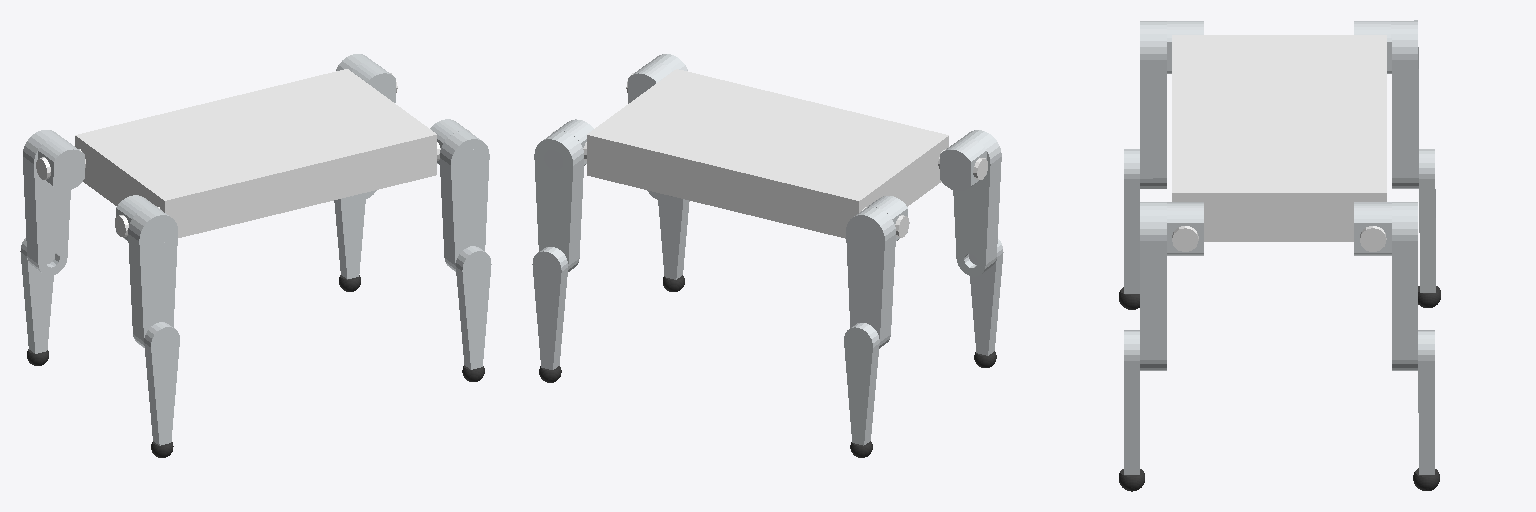
--- Facts derived from the render (not from the file) ---
Views: 3 orthographic renders of the robot side by side, from view 1: azimuth 30°, elevation 25°; view 2: azimuth 150°, elevation 25°; view 3: azimuth 270°, elevation 25°.
Model simpledog with 19 links and 18 joints (12 revolute, 6 fixed), rooted at base_link, posed all joints at 0.
Visible links, largest first — view 1: base_link, rear_right_2_Link, front_right_2_Link, rear_left_2_Link, rear_right_3_Link, front_right_3_Link, rear_left_3_Link, front_left_3_Link, rear_left_1_Link, front_left_1_Link, rear_right_1_Link, front_right_1_Link; view 2: base_link, rear_left_2_Link, front_left_2_Link, rear_right_2_Link, front_left_3_Link, rear_left_3_Link, rear_right_3_Link, front_right_3_Link, rear_right_1_Link, front_right_1_Link, rear_left_1_Link, front_left_1_Link; view 3: base_link, front_right_2_Link, rear_right_2_Link, rear_left_2_Link, front_left_2_Link, front_left_3_Link, rear_left_3_Link, front_right_3_Link, rear_right_3_Link, front_left_1_Link, front_right_1_Link, rear_left_1_Link (+1 smaller).
Link boxes in pixels (<box>): base_link: <box>36,69,473,237</box>; rear_right_2_Link: <box>128,207,177,347</box>; front_right_2_Link: <box>440,131,489,271</box>; rear_left_2_Link: <box>23,130,70,275</box>; rear_right_3_Link: <box>144,322,179,445</box>; front_right_3_Link: <box>456,246,491,369</box>; rear_left_3_Link: <box>20,238,54,353</box>; front_left_3_Link: <box>334,196,365,279</box>; rear_left_1_Link: <box>38,138,84,190</box>; front_left_1_Link: <box>351,62,395,102</box>; rear_right_1_Link: <box>116,195,167,245</box>; front_right_1_Link: <box>430,119,479,169</box>; base_link: <box>551,69,987,238</box>; rear_left_2_Link: <box>846,207,895,348</box>; front_left_2_Link: <box>534,131,583,271</box>; rear_right_2_Link: <box>953,130,1001,276</box>; front_left_3_Link: <box>532,247,567,369</box>; rear_left_3_Link: <box>844,323,879,445</box>; rear_right_3_Link: <box>969,239,1003,355</box>; front_right_3_Link: <box>658,196,689,279</box>; rear_right_1_Link: <box>940,138,986,190</box>; front_right_1_Link: <box>628,62,672,103</box>; rear_left_1_Link: <box>856,196,907,245</box>; front_left_1_Link: <box>544,119,593,170</box>; base_link: <box>1172,35,1386,251</box>; front_right_2_Link: <box>1140,202,1166,370</box>; rear_right_2_Link: <box>1140,21,1166,188</box>; rear_left_2_Link: <box>1391,20,1418,188</box>; front_left_2_Link: <box>1392,202,1417,370</box>; front_left_3_Link: <box>1418,330,1434,474</box>; rear_left_3_Link: <box>1419,149,1435,292</box>; front_right_3_Link: <box>1124,330,1139,474</box>; rear_right_3_Link: <box>1124,149,1139,293</box>; front_left_1_Link: <box>1354,202,1391,255</box>; front_right_1_Link: <box>1167,202,1203,255</box>; rear_left_1_Link: <box>1354,21,1418,73</box>.
Bounding box of the posed robot: 0.9001 × 0.6016 × 0.5876 m (x, y, z).
17 mesh visuals loaded from 18 distinct referenced files (17 binary STL); not drawn: 1 (reference not matched to a file when rendering).

robot.urdf — simpledog:
<?xml version="1.0" ?>
<!-- =================================================================================== -->
<!-- |    This document was autogenerated by xacro from simpledog.urdf.xacro           | -->
<!-- |    EDITING THIS FILE BY HAND IS NOT RECOMMENDED                                 | -->
<!-- =================================================================================== -->
<robot name="simpledog" xmlns:xacro="http://ros.org/wiki/xacro">
  <gazebo reference="base_link">
    <material>Gazebo/DarkGrey</material>
    <mu1 value="10.0"/>
    <mu2 value="10.0"/>
    <kp value="10000000.0"/>
    <kd value="1.0"/>
    <fdir1 value="1 0 0"/>
    <gravity value="ture"/>
  </gazebo>
  <!--load the gazebo rosz-control plug in-->
  <gazebo>
    <plugin filename="libgazebo_ros_control.so" name="gazebo_ros_control">
      <robotNamespace>/simpledog</robotNamespace>
    </plugin>
  </gazebo>
  <!-- <gazebo reference="imu_link">
    <sensor type="imu" name="imu">
      <always_on>true</always_on>
      <visualize>$(arg imu_visual)</visualize>
    </sensor>
    <material>Gazebo/Grey</material>
  </gazebo>

  <gazebo>
    <plugin name="imu_plugin" filename="libgazebo_ros_imu.so">
      <alwaysOn>true</alwaysOn>
      <bodyName>imu_link</bodyName>
      <frameName>imu_link</frameName>
      <topicName>imu</topicName>
      <serviceName>imu_service</serviceName>
      <gaussianNoise>0.0</gaussianNoise>
      <updateRate>200</updateRate>
      <imu>
        <noise>
          <type>gaussian</type>
          <rate>
            <mean>0.0</mean>
            <stddev>2e-4</stddev>
            <bias_mean>0.0000075</bias_mean>
            <bias_stddev>0.0000008</bias_stddev>
          </rate>
          <accel>
            <mean>0.0</mean>
            <stddev>1.7e-2</stddev>
            <bias_mean>0.1</bias_mean>
            <bias_stddev>0.001</bias_stddev>
          </accel>
        </noise>
      </imu>
    </plugin>
  </gazebo>

  <gazebo reference="base_scan">
    <material>Gazebo/FlatBlack</material>
    <sensor type="ray" name="lds_lfcd_sensor">
      <pose>0 0 0 0 0 0</pose>
      <visualize>$(arg laser_visual)</visualize>
      <update_rate>5</update_rate>
      <ray>
        <scan>
          <horizontal>
            <samples>360</samples>
            <resolution>1</resolution>
            <min_angle>0.0</min_angle>
            <max_angle>6.28319</max_angle>
          </horizontal>
        </scan>
        <range>
          <min>0.120</min>
          <max>3.5</max>
          <resolution>0.015</resolution>
        </range>
        <noise>
          <type>gaussian</type>
          <mean>0.0</mean>
          <stddev>0.01</stddev>
        </noise>
      </ray>
      <plugin name="gazebo_ros_lds_lfcd_controller" filename="libgazebo_ros_laser.so">
        <topicName>scan</topicName>
        <frameName>base_scan</frameName>
      </plugin>
    </sensor>
  </gazebo>

  <gazebo reference="camera_rgb_frame">
    <sensor type="depth" name="realsense_R200">
      <always_on>true</always_on>
      <visualize>$(arg camera_visual)</visualize>
      <camera>
          <horizontal_fov>1.3439</horizontal_fov>
          <image>
              <width>1920</width>
              <height>1080</height>
              <format>R8G8B8</format>
          </image>
          <depth_camera></depth_camera>
          <clip>
              <near>0.03</near>
              <far>100</far>
          </clip>
      </camera>
      <plugin name="camera_controller" filename="libgazebo_ros_openni_kinect.so">
        <baseline>0.2</baseline>
        <alwaysOn>true</alwaysOn>
        <updateRate>30.0</updateRate>
        <cameraName>camera</cameraName>
        <frameName>camera_rgb_optical_frame</frameName>
        <imageTopicName>rgb/image_raw</imageTopicName>
        <depthImageTopicName>depth/image_raw</depthImageTopicName>
        <pointCloudTopicName>depth/points</pointCloudTopicName>
        <cameraInfoTopicName>rgb/camera_info</cameraInfoTopicName>
        <depthImageCameraInfoTopicName>depth/camera_info</depthImageCameraInfoTopicName>
        <pointCloudCutoff>0.4</pointCloudCutoff>
            <hackBaseline>0.07</hackBaseline>
            <distortionK1>0.0</distortionK1>
            <distortionK2>0.0</distortionK2>
            <distortionK3>0.0</distortionK3>
            <distortionT1>0.0</distortionT1>
            <distortionT2>0.0</distortionT2>
        <CxPrime>0.0</CxPrime>
        <Cx>0.0</Cx>
        <Cy>0.0</Cy>
        <focalLength>0</focalLength>
        <hackBaseline>0</hackBaseline>
      </plugin>
    </sensor>
  </gazebo>-->
  <!-- Create kinect reference frame -->
  <!-- Add mesh for kinect -->
  <link name="camera_link">
    <origin rpy="0 0 0" xyz="0 0 0"/>
    <mass value="5.238"/>
    <visual>
      <origin rpy="0 0 1.5708" xyz="0 0 0"/>
      <geometry>
        <mesh filename="package://simpledog/meshes/kinect.dae"/>
      </geometry>
    </visual>
    <collision>
      <geometry>
        <box size="0.07 0.3 0.09"/>
      </geometry>
    </collision>
  </link>
  <joint name="camera_optical_joint" type="fixed">
    <origin rpy="-1.5708 0 -1.5708" xyz="0 0 0"/>
    <parent link="camera_link"/>
    <child link="camera_frame_optical"/>
  </joint>
  <link name="camera_frame_optical"/>
  <gazebo reference="camera_link">
    <sensor name="camera" type="depth">
      <always_on>true</always_on>
      <update_rate>10.0</update_rate>
      <camera>
        <horizontal_fov>1.04666666667</horizontal_fov>
        <image>
          <format>R8G8B8</format>
          <width>640</width>
          <height>480</height>
        </image>
        <clip>
          <near>0.05</near>
          <far>8.0</far>
        </clip>
      </camera>
      <plugin filename="libgazebo_ros_openni_kinect.so" name="kinect_camera_controller">
        <cameraName>camera</cameraName>
        <alwaysOn>true</alwaysOn>
        <updateRate>10.0</updateRate>
        <imageTopicName>rgb/image_raw</imageTopicName>
        <depthImageTopicName>depth/image_raw</depthImageTopicName>
        <pointCloudTopicName>depth/points</pointCloudTopicName>
        <cameraInfoTopicName>rgb/camera_info</cameraInfoTopicName>
        <depthImageCameraInfoTopicName>depth/camera_info</depthImageCameraInfoTopicName>
        <frameName>camera_frame_optical</frameName>
        <baseline>0.1</baseline>
        <distortion_k1>0.0</distortion_k1>
        <distortion_k2>0.0</distortion_k2>
        <distortion_k3>0.0</distortion_k3>
        <distortion_t1>0.0</distortion_t1>
        <distortion_t2>0.0</distortion_t2>
        <pointCloudCutoff>0.4</pointCloudCutoff>
        <robotNamespace>/simpledog</robotNamespace>
      </plugin>
    </sensor>
  </gazebo>
  <joint name="kinect_frame_joint" type="fixed">
    <origin rpy="0 0.18 0" xyz="0.3 0 0.1"/>
    <parent link="base_link"/>
    <child link="camera_link"/>
  </joint>
  <gazebo reference="front_left_1_Link">
    <mu1 value="100.0"/>
    <mu2 value="100.0"/>
    <kp value="10000000.0"/>
    <kd value="1.0"/>
    <fdir1 value="1 0 0"/>
  </gazebo>
  <gazebo reference="front_left_1_joint">
    <provideFeedback>true</provideFeedback>
  </gazebo>
  <gazebo>
    <plugin filename="libgazebo_ros_ft_sensor.so" name="ft_sensor">
      <updateRate>100.0</updateRate>
      <topicName>front_left_1_joint_ft_feedback</topicName>
      <jointName>front_left_1_joint</jointName>
    </plugin>
  </gazebo>
  <transmission name="front_left_1_joint_trans" type="SimpleTransmission">
    <type>transmission_interface/SimpleTransmission</type>
    <actuator name="front_left_1_joint_motor">
      <mechanicalReduction>1</mechanicalReduction>
    </actuator>
    <joint name="front_left_1_joint">
      <hardwareInterface>hardware_interface/EffortJointInterface</hardwareInterface>
    </joint>
  </transmission>
  <gazebo reference="front_left_2_Link">
    <mu1 value="100.0"/>
    <mu2 value="100.0"/>
    <kp value="10000000.0"/>
    <kd value="1.0"/>
    <fdir1 value="1 0 0"/>
  </gazebo>
  <gazebo reference="front_left_2_joint">
    <provideFeedback>true</provideFeedback>
  </gazebo>
  <gazebo>
    <plugin filename="libgazebo_ros_ft_sensor.so" name="ft_sensor">
      <updateRate>100.0</updateRate>
      <topicName>front_left_2_joint_ft_feedback</topicName>
      <jointName>front_left_2_joint</jointName>
    </plugin>
  </gazebo>
  <transmission name="front_left_2_joint_trans" type="SimpleTransmission">
    <type>transmission_interface/SimpleTransmission</type>
    <actuator name="front_left_2_joint_motor">
      <mechanicalReduction>1</mechanicalReduction>
    </actuator>
    <joint name="front_left_2_joint">
      <hardwareInterface>hardware_interface/EffortJointInterface</hardwareInterface>
    </joint>
  </transmission>
  <gazebo reference="front_left_3_Link">
    <mu1 value="100.0"/>
    <mu2 value="100.0"/>
    <kp value="10000000.0"/>
    <kd value="1.0"/>
    <fdir1 value="1 0 0"/>
  </gazebo>
  <gazebo reference="front_left_3_joint">
    <provideFeedback>true</provideFeedback>
  </gazebo>
  <gazebo>
    <plugin filename="libgazebo_ros_ft_sensor.so" name="ft_sensor">
      <updateRate>100.0</updateRate>
      <topicName>front_left_3_joint_ft_feedback</topicName>
      <jointName>front_left_3_joint</jointName>
    </plugin>
  </gazebo>
  <transmission name="front_left_3_joint_trans" type="SimpleTransmission">
    <type>transmission_interface/SimpleTransmission</type>
    <actuator name="front_left_3_joint_motor">
      <mechanicalReduction>1</mechanicalReduction>
    </actuator>
    <joint name="front_left_3_joint">
      <hardwareInterface>hardware_interface/EffortJointInterface</hardwareInterface>
    </joint>
  </transmission>
  <gazebo reference="front_right_1_Link">
    <mu1 value="100.0"/>
    <mu2 value="100.0"/>
    <kp value="10000000.0"/>
    <kd value="1.0"/>
    <fdir1 value="1 0 0"/>
  </gazebo>
  <gazebo reference="front_right_1_joint">
    <provideFeedback>true</provideFeedback>
  </gazebo>
  <gazebo>
    <plugin filename="libgazebo_ros_ft_sensor.so" name="ft_sensor">
      <updateRate>100.0</updateRate>
      <topicName>front_right_1_joint_ft_feedback</topicName>
      <jointName>front_right_1_joint</jointName>
    </plugin>
  </gazebo>
  <transmission name="front_right_1_joint_trans" type="SimpleTransmission">
    <type>transmission_interface/SimpleTransmission</type>
    <actuator name="front_right_1_joint_motor">
      <mechanicalReduction>1</mechanicalReduction>
    </actuator>
    <joint name="front_right_1_joint">
      <hardwareInterface>hardware_interface/EffortJointInterface</hardwareInterface>
    </joint>
  </transmission>
  <gazebo reference="front_right_2_Link">
    <mu1 value="100.0"/>
    <mu2 value="100.0"/>
    <kp value="10000000.0"/>
    <kd value="1.0"/>
    <fdir1 value="1 0 0"/>
  </gazebo>
  <gazebo reference="front_right_2_joint">
    <provideFeedback>true</provideFeedback>
  </gazebo>
  <gazebo>
    <plugin filename="libgazebo_ros_ft_sensor.so" name="ft_sensor">
      <updateRate>100.0</updateRate>
      <topicName>front_right_2_joint_ft_feedback</topicName>
      <jointName>front_right_2_joint</jointName>
    </plugin>
  </gazebo>
  <transmission name="front_right_2_joint_trans" type="SimpleTransmission">
    <type>transmission_interface/SimpleTransmission</type>
    <actuator name="front_right_2_joint_motor">
      <mechanicalReduction>1</mechanicalReduction>
    </actuator>
    <joint name="front_right_2_joint">
      <hardwareInterface>hardware_interface/EffortJointInterface</hardwareInterface>
    </joint>
  </transmission>
  <gazebo reference="front_right_3_Link">
    <mu1 value="100.0"/>
    <mu2 value="100.0"/>
    <kp value="10000000.0"/>
    <kd value="1.0"/>
    <fdir1 value="1 0 0"/>
  </gazebo>
  <gazebo reference="front_right_3_joint">
    <provideFeedback>true</provideFeedback>
  </gazebo>
  <gazebo>
    <plugin filename="libgazebo_ros_ft_sensor.so" name="ft_sensor">
      <updateRate>100.0</updateRate>
      <topicName>front_right_3_joint_ft_feedback</topicName>
      <jointName>front_right_3_joint</jointName>
    </plugin>
  </gazebo>
  <transmission name="front_right_3_joint_trans" type="SimpleTransmission">
    <type>transmission_interface/SimpleTransmission</type>
    <actuator name="front_right_3_joint_motor">
      <mechanicalReduction>1</mechanicalReduction>
    </actuator>
    <joint name="front_right_3_joint">
      <hardwareInterface>hardware_interface/EffortJointInterface</hardwareInterface>
    </joint>
  </transmission>
  <gazebo reference="rear_right_1_Link">
    <mu1 value="100.0"/>
    <mu2 value="100.0"/>
    <kp value="10000000.0"/>
    <kd value="1.0"/>
    <fdir1 value="1 0 0"/>
  </gazebo>
  <gazebo reference="rear_right_1_joint">
    <provideFeedback>true</provideFeedback>
  </gazebo>
  <gazebo>
    <plugin filename="libgazebo_ros_ft_sensor.so" name="ft_sensor">
      <updateRate>100.0</updateRate>
      <topicName>rear_right_1_joint_ft_feedback</topicName>
      <jointName>rear_right_1_joint</jointName>
    </plugin>
  </gazebo>
  <transmission name="rear_right_1_joint_trans" type="SimpleTransmission">
    <type>transmission_interface/SimpleTransmission</type>
    <actuator name="rear_right_1_joint_motor">
      <mechanicalReduction>1</mechanicalReduction>
    </actuator>
    <joint name="rear_right_1_joint">
      <hardwareInterface>hardware_interface/EffortJointInterface</hardwareInterface>
    </joint>
  </transmission>
  <gazebo reference="rear_right_2_Link">
    <mu1 value="100.0"/>
    <mu2 value="100.0"/>
    <kp value="10000000.0"/>
    <kd value="1.0"/>
    <fdir1 value="1 0 0"/>
  </gazebo>
  <gazebo reference="rear_right_2_joint">
    <provideFeedback>true</provideFeedback>
  </gazebo>
  <gazebo>
    <plugin filename="libgazebo_ros_ft_sensor.so" name="ft_sensor">
      <updateRate>100.0</updateRate>
      <topicName>rear_right_2_joint_ft_feedback</topicName>
      <jointName>rear_right_2_joint</jointName>
    </plugin>
  </gazebo>
  <transmission name="rear_right_2_joint_trans" type="SimpleTransmission">
    <type>transmission_interface/SimpleTransmission</type>
    <actuator name="rear_right_2_joint_motor">
      <mechanicalReduction>1</mechanicalReduction>
    </actuator>
    <joint name="rear_right_2_joint">
      <hardwareInterface>hardware_interface/EffortJointInterface</hardwareInterface>
    </joint>
  </transmission>
  <gazebo reference="rear_right_3_Link">
    <mu1 value="100.0"/>
    <mu2 value="100.0"/>
    <kp value="10000000.0"/>
    <kd value="1.0"/>
    <fdir1 value="1 0 0"/>
  </gazebo>
  <gazebo reference="rear_right_3_joint">
    <provideFeedback>true</provideFeedback>
  </gazebo>
  <gazebo>
    <plugin filename="libgazebo_ros_ft_sensor.so" name="ft_sensor">
      <updateRate>100.0</updateRate>
      <topicName>rear_right_3_joint_ft_feedback</topicName>
      <jointName>rear_right_3_joint</jointName>
    </plugin>
  </gazebo>
  <transmission name="rear_right_3_joint_trans" type="SimpleTransmission">
    <type>transmission_interface/SimpleTransmission</type>
    <actuator name="rear_right_3_joint_motor">
      <mechanicalReduction>1</mechanicalReduction>
    </actuator>
    <joint name="rear_right_3_joint">
      <hardwareInterface>hardware_interface/EffortJointInterface</hardwareInterface>
    </joint>
  </transmission>
  <gazebo reference="rear_left_1_Link">
    <mu1 value="100.0"/>
    <mu2 value="100.0"/>
    <kp value="10000000.0"/>
    <kd value="1.0"/>
    <fdir1 value="1 0 0"/>
  </gazebo>
  <gazebo reference="rear_left_1_joint">
    <provideFeedback>true</provideFeedback>
  </gazebo>
  <gazebo>
    <plugin filename="libgazebo_ros_ft_sensor.so" name="ft_sensor">
      <updateRate>100.0</updateRate>
      <topicName>rear_left_1_joint_ft_feedback</topicName>
      <jointName>rear_left_1_joint</jointName>
    </plugin>
  </gazebo>
  <transmission name="rear_left_1_joint_trans" type="SimpleTransmission">
    <type>transmission_interface/SimpleTransmission</type>
    <actuator name="rear_left_1_joint_motor">
      <mechanicalReduction>1</mechanicalReduction>
    </actuator>
    <joint name="rear_left_1_joint">
      <hardwareInterface>hardware_interface/EffortJointInterface</hardwareInterface>
    </joint>
  </transmission>
  <gazebo reference="rear_left_2_Link">
    <mu1 value="100.0"/>
    <mu2 value="100.0"/>
    <kp value="10000000.0"/>
    <kd value="1.0"/>
    <fdir1 value="1 0 0"/>
  </gazebo>
  <gazebo reference="rear_left_2_joint">
    <provideFeedback>true</provideFeedback>
  </gazebo>
  <gazebo>
    <plugin filename="libgazebo_ros_ft_sensor.so" name="ft_sensor">
      <updateRate>100.0</updateRate>
      <topicName>rear_left_2_joint_ft_feedback</topicName>
      <jointName>rear_left_2_joint</jointName>
    </plugin>
  </gazebo>
  <transmission name="rear_left_2_joint_trans" type="SimpleTransmission">
    <type>transmission_interface/SimpleTransmission</type>
    <actuator name="rear_left_2_joint_motor">
      <mechanicalReduction>1</mechanicalReduction>
    </actuator>
    <joint name="rear_left_2_joint">
      <hardwareInterface>hardware_interface/EffortJointInterface</hardwareInterface>
    </joint>
  </transmission>
  <gazebo reference="rear_left_3_Link">
    <mu1 value="100.0"/>
    <mu2 value="100.0"/>
    <kp value="10000000.0"/>
    <kd value="1.0"/>
    <fdir1 value="1 0 0"/>
  </gazebo>
  <gazebo reference="rear_left_3_joint">
    <provideFeedback>true</provideFeedback>
  </gazebo>
  <gazebo>
    <plugin filename="libgazebo_ros_ft_sensor.so" name="ft_sensor">
      <updateRate>100.0</updateRate>
      <topicName>rear_left_3_joint_ft_feedback</topicName>
      <jointName>rear_left_3_joint</jointName>
    </plugin>
  </gazebo>
  <transmission name="rear_left_3_joint_trans" type="SimpleTransmission">
    <type>transmission_interface/SimpleTransmission</type>
    <actuator name="rear_left_3_joint_motor">
      <mechanicalReduction>1</mechanicalReduction>
    </actuator>
    <joint name="rear_left_3_joint">
      <hardwareInterface>hardware_interface/EffortJointInterface</hardwareInterface>
    </joint>
  </transmission>
  <gazebo reference="lf_foot_Link">
    <material>Gazebo/DarkGrey</material>
    <mu1 value="100.0"/>
    <mu2 value="100.0"/>
    <kp value="10000000.0"/>
    <kd value="1.0"/>
    <fdir1 value="1 0 0"/>
  </gazebo>
  <gazebo reference="lf_foot_joint">
    <provideFeedback value="true"/>
  </gazebo>
  <gazebo reference="lf_foot_Link">
    <turnGravityOff>true</turnGravityOff>
    <selfCollide>false</selfCollide>
    <sensor name="lf_foot_contact_sensor" type="contact">
      <update_rate>100.0</update_rate>
      <contact>
        <collision>front_left_3_Link_fixed_joint_lump__lf_foot_Link_collision_1</collision>
      </contact>
      <plugin filename="libgazebo_ros_bumper.so" name="lf_foot_gazebo_ros_bumper_controller">
        <alwaysOn>true</alwaysOn>
        <frameName>lf_foot_Link</frameName>
        <!-- <frameName>world</frameName> -->
        <updateRate>100.0</updateRate>
        <bumperTopicName>lf_foot_bumper</bumperTopicName>
      </plugin>
    </sensor>
  </gazebo>
  <!-- <gazebo>
                <plugin name="ft_sensor" filename="libgazebo_ros_ft_sensor.so">
                    <updateRate>100.0</updateRate>
                    <topicName>${foot_prefix}_joint_ft_feedback</topicName>
                    <jointName>${foot_prefix}_joint</jointName>
                </plugin>
            </gazebo> -->
  <gazebo>
    <plugin filename="libgazebo_ros_f3d.so" name="f3d_lf_foot_controller">
      <alwaysOn>true</alwaysOn>
      <updateRate>10.0</updateRate>
      <frameName>base_link</frameName>
      <bodyName>lf_foot_Link</bodyName>
      <topicName>lf_foot_force_ground_truth</topicName>
    </plugin>
  </gazebo>
  <gazebo reference="rf_foot_Link">
    <material>Gazebo/DarkGrey</material>
    <mu1 value="100.0"/>
    <mu2 value="100.0"/>
    <kp value="10000000.0"/>
    <kd value="1.0"/>
    <fdir1 value="1 0 0"/>
  </gazebo>
  <gazebo reference="rf_foot_joint">
    <provideFeedback value="true"/>
  </gazebo>
  <gazebo reference="rf_foot_Link">
    <turnGravityOff>true</turnGravityOff>
    <selfCollide>false</selfCollide>
    <sensor name="rf_foot_contact_sensor" type="contact">
      <update_rate>100.0</update_rate>
      <contact>
        <collision>front_right_3_Link_fixed_joint_lump__rf_foot_Link_collision_1</collision>
      </contact>
      <plugin filename="libgazebo_ros_bumper.so" name="rf_foot_gazebo_ros_bumper_controller">
        <alwaysOn>true</alwaysOn>
        <frameName>rf_foot_Link</frameName>
        <!-- <frameName>world</frameName> -->
        <updateRate>100.0</updateRate>
        <bumperTopicName>rf_foot_bumper</bumperTopicName>
      </plugin>
    </sensor>
  </gazebo>
  <!-- <gazebo>
                <plugin name="ft_sensor" filename="libgazebo_ros_ft_sensor.so">
                    <updateRate>100.0</updateRate>
                    <topicName>${foot_prefix}_joint_ft_feedback</topicName>
                    <jointName>${foot_prefix}_joint</jointName>
                </plugin>
            </gazebo> -->
  <gazebo>
    <plugin filename="libgazebo_ros_f3d.so" name="f3d_rf_foot_controller">
      <alwaysOn>true</alwaysOn>
      <updateRate>10.0</updateRate>
      <frameName>base_link</frameName>
      <bodyName>rf_foot_Link</bodyName>
      <topicName>rf_foot_force_ground_truth</topicName>
    </plugin>
  </gazebo>
  <gazebo reference="rh_foot_Link">
    <material>Gazebo/DarkGrey</material>
    <mu1 value="100.0"/>
    <mu2 value="100.0"/>
    <kp value="10000000.0"/>
    <kd value="1.0"/>
    <fdir1 value="1 0 0"/>
  </gazebo>
  <gazebo reference="rh_foot_joint">
    <provideFeedback value="true"/>
  </gazebo>
  <gazebo reference="rh_foot_Link">
    <turnGravityOff>true</turnGravityOff>
    <selfCollide>false</selfCollide>
    <sensor name="rh_foot_contact_sensor" type="contact">
      <update_rate>100.0</update_rate>
      <contact>
        <collision>rear_left_3_Link_fixed_joint_lump__rh_foot_Link_collision_1</collision>
      </contact>
      <plugin filename="libgazebo_ros_bumper.so" name="rh_foot_gazebo_ros_bumper_controller">
        <alwaysOn>true</alwaysOn>
        <frameName>rh_foot_Link</frameName>
        <!-- <frameName>world</frameName> -->
        <updateRate>100.0</updateRate>
        <bumperTopicName>rh_foot_bumper</bumperTopicName>
      </plugin>
    </sensor>
  </gazebo>
  <!-- <gazebo>
                <plugin name="ft_sensor" filename="libgazebo_ros_ft_sensor.so">
                    <updateRate>100.0</updateRate>
                    <topicName>${foot_prefix}_joint_ft_feedback</topicName>
                    <jointName>${foot_prefix}_joint</jointName>
                </plugin>
            </gazebo> -->
  <gazebo>
    <plugin filename="libgazebo_ros_f3d.so" name="f3d_rh_foot_controller">
      <alwaysOn>true</alwaysOn>
      <updateRate>10.0</updateRate>
      <frameName>base_link</frameName>
      <bodyName>rh_foot_Link</bodyName>
      <topicName>rh_foot_force_ground_truth</topicName>
    </plugin>
  </gazebo>
  <gazebo reference="lh_foot_Link">
    <material>Gazebo/DarkGrey</material>
    <mu1 value="100.0"/>
    <mu2 value="100.0"/>
    <kp value="10000000.0"/>
    <kd value="1.0"/>
    <fdir1 value="1 0 0"/>
  </gazebo>
  <gazebo reference="lh_foot_joint">
    <provideFeedback value="true"/>
  </gazebo>
  <gazebo reference="lh_foot_Link">
    <turnGravityOff>true</turnGravityOff>
    <selfCollide>false</selfCollide>
    <sensor name="lh_foot_contact_sensor" type="contact">
      <update_rate>100.0</update_rate>
      <contact>
        <collision>rear_right_3_Link_fixed_joint_lump__lh_foot_Link_collision_1</collision>
      </contact>
      <plugin filename="libgazebo_ros_bumper.so" name="lh_foot_gazebo_ros_bumper_controller">
        <alwaysOn>true</alwaysOn>
        <frameName>lh_foot_Link</frameName>
        <!-- <frameName>world</frameName> -->
        <updateRate>100.0</updateRate>
        <bumperTopicName>lh_foot_bumper</bumperTopicName>
      </plugin>
    </sensor>
  </gazebo>
  <!-- <gazebo>
                <plugin name="ft_sensor" filename="libgazebo_ros_ft_sensor.so">
                    <updateRate>100.0</updateRate>
                    <topicName>${foot_prefix}_joint_ft_feedback</topicName>
                    <jointName>${foot_prefix}_joint</jointName>
                </plugin>
            </gazebo> -->
  <gazebo>
    <plugin filename="libgazebo_ros_f3d.so" name="f3d_lh_foot_controller">
      <alwaysOn>true</alwaysOn>
      <updateRate>10.0</updateRate>
      <frameName>base_link</frameName>
      <bodyName>lh_foot_Link</bodyName>
      <topicName>lh_foot_force_ground_truth</topicName>
    </plugin>
  </gazebo>
  <limit effort="100" lower="-3.0" upper="3.0" velocity="10"/>
  <link name="base_link">
    <inertial>
      <origin rpy="0 0 0" xyz="2.919E-17 -4.8141E-17 9.4163E-19"/>
      <mass value="15.238"/>
      <inertia ixx="0.74932" ixy="-1.2062E-17" ixz="-2.0602E-16" iyy="2.3017" iyz="-3.8366E-17" izz="2.9675"/>
    </inertial>
    <visual>
      <origin rpy="0 0 0" xyz="0 0 0"/>
      <geometry>
        <mesh filename="package://simpledog/meshes/base_link.STL"/>
      </geometry>
      <material name="">
        <color rgba="1 1 1 1"/>
      </material>
    </visual>
    <collision>
      <origin rpy="0 0 0" xyz="0 0 0"/>
      <geometry>
        <mesh filename="package://simpledog/meshes/base_link.STL"/>
      </geometry>
    </collision>
  </link>
  <link name="front_left_1_Link">
    <inertial>
      <origin rpy="0 0 0" xyz="1.7015E-17 0.012793 -0.00023552"/>
      <mass value="1.1709"/>
      <inertia ixx="0.001719" ixy="2.9302E-20" ixz="-1.6433E-19" iyy="0.0013167" iyz="-7.6795E-20" izz="0.0021511"/>
    </inertial>
    <visual>
      <origin rpy="0 0 0" xyz="0 0 0"/>
      <geometry>
        <mesh filename="package://simpledog/meshes/front_left_1_Link.STL"/>
      </geometry>
      <material name="">
        <color rgba="0.89804 0.91765 0.92941 1"/>
      </material>
    </visual>
    <collision>
      <origin rpy="0 0 0" xyz="0 0 0"/>
      <geometry>
        <mesh filename="package://simpledog/meshes/front_left_1_Link.STL"/>
      </geometry>
    </collision>
  </link>
  <joint name="front_left_1_joint" type="revolute">
    <origin rpy="1.57079632679453 1.57051603921301 1.57079632679453" xyz="0.400 0.175 0"/>
    <parent link="base_link"/>
    <child link="front_left_1_Link"/>
    <axis xyz="0 0 1"/>
    <limit effort="100" lower="-3.0" upper="3.0" velocity="10"/>
  </joint>
  <link name="front_left_2_Link">
    <inertial>
      <origin rpy="0 0 0" xyz="0.11439 0.00028184 0.05942"/>
      <mass value="1.3902"/>
      <inertia ixx="0.0030209" ixy="-5.6504E-20" ixz="2.8413E-18" iyy="0.026875" iyz="1.5349E-06" izz="0.028484"/>
    </inertial>
    <visual>
      <origin rpy="0 0 0" xyz="0 0 0"/>
      <geometry>
        <mesh filename="package://simpledog/meshes/front_left_2_Link.STL"/>
      </geometry>
      <material name="">
        <color rgba="0.89804 0.91765 0.92941 1"/>
      </material>
    </visual>
    <collision>
      <origin rpy="0 0 0" xyz="0 0 0"/>
      <geometry>
        <mesh filename="package://simpledog/meshes/front_left_2_Link.STL"/>
      </geometry>
    </collision>
  </link>
  <joint name="front_left_2_joint" type="revolute">
    <origin rpy="-1.5708 0 0" xyz="0 0 0"/>
    <parent link="front_left_1_Link"/>
    <child link="front_left_2_Link"/>
    <axis xyz="0 0 1"/>
    <limit effort="100" lower="-3.0" upper="3.0" velocity="10"/>
  </joint>
  <link name="front_left_3_Link">
    <inertial>
      <origin rpy="0 0 0" xyz="0.087825 1.529E-05 -0.016708"/>
      <mass value="1.3523"/>
      <inertia ixx="0.00053032" ixy="-8.5291E-07" ixz="-0.00020744" iyy="0.0091429" iyz="-8.3738E-08" izz="0.009338"/>
    </inertial>
    <visual>
      <origin rpy="0 0 0" xyz="0 0 0"/>
      <geometry>
        <mesh filename="package://simpledog/meshes/front_left_3_Link.STL"/>
      </geometry>
      <material name="">
        <color rgba="0.89804 0.91765 0.92941 1"/>
      </material>
    </visual>
    <collision>
      <origin rpy="0 0 0" xyz="0 0 0"/>
      <geometry>
        <mesh filename="package://simpledog/meshes/front_left_3_Link.STL"/>
      </geometry>
    </collision>
  </link>
  <joint name="front_left_3_joint" type="revolute">
    <origin rpy="0 0 0" xyz="0.250069171339977 0.000334332414087979 0.11441948932032"/>
    <parent link="front_left_2_Link"/>
    <child link="front_left_3_Link"/>
    <axis xyz="0 0 1"/>
    <limit effort="100" lower="-3.0" upper="3.0" velocity="10"/>
  </joint>
  <link name="lf_foot_Link">
    <inertial>
      <origin rpy="0 0 0" xyz="0.0178251114319979 0 0"/>
      <mass value="0.0556193699314689"/>
      <inertia ixx="1.65498601680364E-05" ixy="-1.00565663974796E-21" ixz="1.3524403015242E-22" iyy="1.23221647613412E-05" iyz="-3.56241096455504E-11" izz="1.25699738250509E-05"/>
    </inertial>
    <visual>
      <origin rpy="0 0 0" xyz="0 0 0"/>
      <geometry>
        <mesh filename="package://simpledog/meshes/lf_foot_Link.STL"/>
      </geometry>
      <material name="">
        <color rgba="0.298039215686275 0.298039215686275 0.298039215686275 1"/>
      </material>
    </visual>
    <collision>
      <maxContacts>1</maxContacts>
      <origin rpy="0 0 0" xyz="0 0 0"/>
      <geometry>
        <mesh filename="package://simpledog/meshes/lf_foot_Link.STL"/>
      </geometry>
    </collision>
  </link>
  <joint name="lf_foot_joint" type="fixed">
    <origin rpy="0 0 0" xyz="0.250003601978058 0 -0.0149398452771417"/>
    <parent link="front_left_3_Link"/>
    <child link="lf_foot_Link"/>
    <axis xyz="0 0 0"/>
  </joint>
  <link name="front_right_1_Link">
    <inertial>
      <origin rpy="0 0 0" xyz="9.7104E-17 0.012793 1.6653E-16"/>
      <mass value="1.1709"/>
      <inertia ixx="0.001719" ixy="-5.88E-19" ixz="-1.7779E-19" iyy="0.0013167" iyz="-2.0543E-19" izz="0.0021511"/>
    </inertial>
    <visual>
      <origin rpy="0 0 0" xyz="0 0 0"/>
      <geometry>
        <mesh filename="package://simpledog/meshes/front_right_1_Link.STL"/>
      </geometry>
      <material name="">
        <color rgba="0.89804 0.91765 0.92941 1"/>
      </material>
    </visual>
    <collision>
      <origin rpy="0 0 0" xyz="0 0 0"/>
      <geometry>
        <mesh filename="package://simpledog/meshes/front_right_1_Link.STL"/>
      </geometry>
    </collision>
  </link>
  <joint name="front_right_1_joint" type="revolute">
    <origin rpy="1.5708 1.5708 -1.5708" xyz="0.4 -0.175 0"/>
    <parent link="base_link"/>
    <child link="front_right_1_Link"/>
    <axis xyz="0 0 1"/>
    <limit effort="100" lower="-3.0" upper="3.0" velocity="10"/>
  </joint>
  <link name="front_right_2_Link">
    <inertial>
      <origin rpy="0 0 0" xyz="0.11432 -5.5511E-17 0.05942"/>
      <mass value="1.3902"/>
      <inertia ixx="0.0030209" ixy="-4.0905E-18" ixz="-8.1586E-10" iyy="0.026875" iyz="2.3399E-19" izz="0.028484"/>
    </inertial>
    <visual>
      <origin rpy="0 0 0" xyz="0 0 0"/>
      <geometry>
        <mesh filename="package://simpledog/meshes/front_right_2_Link.STL"/>
      </geometry>
      <material name="">
        <color rgba="0.89804 0.91765 0.92941 1"/>
      </material>
    </visual>
    <collision>
      <origin rpy="0 0 0" xyz="0 0 0"/>
      <geometry>
        <mesh filename="package://simpledog/meshes/front_right_2_Link.STL"/>
      </geometry>
    </collision>
  </link>
  <joint name="front_right_2_joint" type="revolute">
    <origin rpy="-1.5708 0 0" xyz="0 0 0"/>
    <parent link="front_right_1_Link"/>
    <child link="front_right_2_Link"/>
    <axis xyz="0 0 1"/>
    <limit effort="100" lower="-3.0" upper="3.0" velocity="10"/>
  </joint>
  <link name="front_right_3_Link">
    <inertial>
      <origin rpy="0 0 0" xyz="0.087821 6.7221E-06 -0.016729"/>
      <mass value="1.3523"/>
      <inertia ixx="0.00053022" ixy="-9.5809E-07" ixz="-0.00020532" iyy="0.0091429" iyz="1.6437E-08" izz="0.0093381"/>
    </inertial>
    <visual>
      <origin rpy="0 0 0" xyz="0 0 0"/>
      <geometry>
        <mesh filename="package://simpledog/meshes/front_right_3_Link.STL"/>
      </geometry>
      <material name="">
        <color rgba="0.89804 0.91765 0.92941 1"/>
      </material>
    </visual>
    <collision>
      <origin rpy="0 0 0" xyz="0 0 0"/>
      <geometry>
        <mesh filename="package://simpledog/meshes/front_right_3_Link.STL"/>
      </geometry>
    </collision>
  </link>
  <joint name="front_right_3_joint" type="revolute">
    <origin rpy="0 0 0" xyz="0.249999996334044 0 0.114419764295838"/>
    <parent link="front_right_2_Link"/>
    <child link="front_right_3_Link"/>
    <axis xyz="0 0 1"/>
    <limit effort="100" lower="-3.0" upper="3.0" velocity="10"/>
  </joint>
  <link name="rf_foot_Link">
    <inertial>
      <origin rpy="0 0 0" xyz="0.017825 0 0"/>
      <mass value="0.055619"/>
      <inertia ixx="1.655E-05" ixy="2.2089E-21" ixz="-1.1638E-21" iyy="1.2322E-05" iyz="-2.0835E-21" izz="1.257E-05"/>
    </inertial>
    <visual>
      <origin rpy="0 0 0" xyz="0 0 0"/>
      <geometry>
        <mesh filename="package://simpledog/meshes/rf_foot_Link.STL"/>
      </geometry>
      <material name="">
        <color rgba="0.29804 0.29804 0.29804 1"/>
      </material>
    </visual>
    <collision>
      <origin rpy="0 0 0" xyz="0 0 0"/>
      <geometry>
        <mesh filename="package://simpledog/meshes/rf_foot_Link.STL"/>
      </geometry>
    </collision>
  </link>
  <joint name="rf_foot_joint" type="fixed">
    <origin rpy="-0.00020601381558494 5.03069808033274E-17 -4.99600361081321E-16" xyz="0.25 0 -0.0149999996816874"/>
    <parent link="front_right_3_Link"/>
    <child link="rf_foot_Link"/>
    <axis xyz="0 0 0"/>
  </joint>
  <link name="rear_left_1_Link">
    <inertial>
      <origin rpy="0 0 0" xyz="5.7896E-17 0.012793 2.7756E-16"/>
      <mass value="1.1709"/>
      <inertia ixx="0.001719" ixy="-2.0371E-19" ixz="5.3128E-21" iyy="0.0013167" iyz="-3.3901E-19" izz="0.0021511"/>
    </inertial>
    <visual>
      <origin rpy="0 0 0" xyz="0 0 0"/>
      <geometry>
        <mesh filename="package://simpledog/meshes/rear_left_1_Link.STL"/>
      </geometry>
      <material name="">
        <color rgba="0.89804 0.91765 0.92941 1"/>
      </material>
    </visual>
    <collision>
      <origin rpy="0 0 0" xyz="0 0 0"/>
      <geometry>
        <mesh filename="package://simpledog/meshes/rear_left_1_Link.STL"/>
      </geometry>
    </collision>
  </link>
  <joint name="rear_left_1_joint" type="revolute">
    <origin rpy="1.57079632679488 1.56519932988528 1.57079632679488" xyz="-0.4 0.175 0"/>
    <parent link="base_link"/>
    <child link="rear_left_1_Link"/>
    <axis xyz="0 0 1"/>
    <limit effort="100" lower="-3.0" upper="3.0" velocity="10"/>
  </joint>
  <link name="rear_left_2_Link">
    <inertial>
      <origin rpy="0 0 0" xyz="0.11432 0 0.05942"/>
      <mass value="1.3902"/>
      <inertia ixx="0.0030209" ixy="-1.8526E-18" ixz="2.5242E-19" iyy="0.026875" iyz="3.7608E-19" izz="0.028484"/>
    </inertial>
    <visual>
      <origin rpy="0 0 0" xyz="0 0 0"/>
      <geometry>
        <mesh filename="package://simpledog/meshes/rear_left_2_Link.STL"/>
      </geometry>
      <material name="">
        <color rgba="0.89804 0.91765 0.92941 1"/>
      </material>
    </visual>
    <collision>
      <origin rpy="0 0 0" xyz="0 0 0"/>
      <geometry>
        <mesh filename="package://simpledog/meshes/rear_left_2_Link.STL"/>
      </geometry>
    </collision>
  </link>
  <joint name="rear_left_2_joint" type="revolute">
    <origin rpy="-1.5707963267949 0 0" xyz="0 0 0"/>
    <parent link="rear_left_1_Link"/>
    <child link="rear_left_2_Link"/>
    <axis xyz="0 0 1"/>
    <limit effort="100" lower="-3.0" upper="3.0" velocity="10"/>
  </joint>
  <link name="rear_left_3_Link">
    <inertial>
      <origin rpy="0 0 0" xyz="0.087821 5.7424E-05 -0.016729"/>
      <mass value="1.3523"/>
      <inertia ixx="0.00053022" ixy="-3.3581E-07" ixz="-0.00020532" iyy="0.0091429" iyz="-5.7512E-07" izz="0.0093381"/>
    </inertial>
    <visual>
      <origin rpy="0 0 0" xyz="0 0 0"/>
      <geometry>
        <mesh filename="package://simpledog/meshes/rear_left_3_Link.STL"/>
      </geometry>
      <material name="">
        <color rgba="0.89804 0.91765 0.92941 1"/>
      </material>
    </visual>
    <collision>
      <origin rpy="0 0 0" xyz="0 0 0"/>
      <geometry>
        <mesh filename="package://simpledog/meshes/rear_left_3_Link.STL"/>
      </geometry>
    </collision>
  </link>
  <joint name="rear_left_3_joint" type="revolute">
    <origin rpy="0 0 0" xyz="0.25 0 0.114419756285561"/>
    <parent link="rear_left_2_Link"/>
    <child link="rear_left_3_Link"/>
    <axis xyz="0 0 1"/>
    <limit effort="100" lower="-3.0" upper="3.0" velocity="10"/>
  </joint>
  <link name="rh_foot_Link">
    <inertial>
      <origin rpy="0 0 0" xyz="0.017825 -1.1102E-16 5.5511E-17"/>
      <mass value="0.055619"/>
      <inertia ixx="1.655E-05" ixy="3.2567E-22" ixz="-9.7111E-22" iyy="1.2322E-05" iyz="5.4896E-20" izz="1.257E-05"/>
    </inertial>
    <visual>
      <origin rpy="0 0 0" xyz="0 0 0"/>
      <geometry>
        <mesh filename="package://simpledog/meshes/rh_foot_Link.STL"/>
      </geometry>
      <material name="">
        <color rgba="0.29804 0.29804 0.29804 1"/>
      </material>
    </visual>
    <collision>
      <origin rpy="0 0 0" xyz="0 0 0"/>
      <geometry>
        <mesh filename="package://simpledog/meshes/rh_foot_Link.STL"/>
      </geometry>
    </collision>
  </link>
  <joint name="rh_foot_joint" type="fixed">
    <origin rpy="0 0 0" xyz="0.24742286767759 0.000379574544590811 -0.015"/>
    <parent link="rear_left_3_Link"/>
    <child link="rh_foot_Link"/>
    <axis xyz="0 0 0"/>
  </joint>
  <link name="rear_right_1_Link">
    <inertial>
      <origin rpy="0 0 0" xyz="-6.2968E-06 0.012793 0.0003022"/>
      <mass value="1.1709"/>
      <inertia ixx="0.001719" ixy="1.9803E-07" ixz="-1.4315E-19" iyy="0.0013167" iyz="-1.2614E-19" izz="0.0021511"/>
    </inertial>
    <visual>
      <origin rpy="0 0 0" xyz="0 0 0"/>
      <geometry>
        <mesh filename="package://simpledog/meshes/rear_right_1_Link.STL"/>
      </geometry>
      <material name="">
        <color rgba="0.89804 0.91765 0.92941 1"/>
      </material>
    </visual>
    <collision>
      <origin rpy="0 0 0" xyz="0 0 0"/>
      <geometry>
        <mesh filename="package://simpledog/meshes/rear_right_1_Link.STL"/>
      </geometry>
    </collision>
  </link>
  <joint name="rear_right_1_joint" type="revolute">
    <origin rpy="1.5708 1.5708 -1.5708" xyz="-0.4 -0.175 0"/>
    <parent link="base_link"/>
    <child link="rear_right_1_Link"/>
    <axis xyz="0 0 1"/>
    <limit effort="100" lower="-3.0" upper="3.0" velocity="10"/>
  </joint>
  <link name="rear_right_2_Link">
    <inertial>
      <origin rpy="0 0 0" xyz="0.11443 -8.407E-05 0.05942"/>
      <mass value="1.3902"/>
      <inertia ixx="0.0030209" ixy="-4.1489E-12" ixz="-1.2337E-09" iyy="0.026876" iyz="5.4085E-06" izz="0.028484"/>
    </inertial>
    <visual>
      <origin rpy="0 0 0" xyz="0 0 0"/>
      <geometry>
        <mesh filename="package://simpledog/meshes/rear_right_2_Link.STL"/>
      </geometry>
      <material name="">
        <color rgba="0.89804 0.91765 0.92941 1"/>
      </material>
    </visual>
    <collision>
      <origin rpy="0 0 0" xyz="0 0 0"/>
      <geometry>
        <mesh filename="package://simpledog/meshes/rear_right_2_Link.STL"/>
      </geometry>
    </collision>
  </link>
  <joint name="rear_right_2_joint" type="revolute">
    <origin rpy="-1.5708 0 0" xyz="0 0 0"/>
    <parent link="rear_right_1_Link"/>
    <child link="rear_right_2_Link"/>
    <axis xyz="0 0 1"/>
    <limit effort="100" lower="-3.0" upper="3.0" velocity="10"/>
  </joint>
  <link name="rear_right_3_Link">
    <inertial>
      <origin rpy="0 0 0" xyz="0.087821 6.0067E-06 -0.016729"/>
      <mass value="1.3523"/>
      <inertia ixx="0.00053022" ixy="-9.6687E-07" ixz="-0.00020532" iyy="0.0091429" iyz="2.4784E-08" izz="0.0093381"/>
    </inertial>
    <visual>
      <origin rpy="0 0 0" xyz="0 0 0"/>
      <geometry>
        <mesh filename="package://simpledog/meshes/rear_right_3_Link.STL"/>
      </geometry>
      <material name="">
        <color rgba="0.89804 0.91765 0.92941 1"/>
      </material>
    </visual>
    <collision>
      <origin rpy="0 0 0" xyz="0 0 0"/>
      <geometry>
        <mesh filename="package://simpledog/meshes/rear_right_3_Link.STL"/>
      </geometry>
    </collision>
  </link>
  <joint name="rear_right_3_joint" type="revolute">
    <origin rpy="0 0 0" xyz="0.25010358767993 0.0001008844556592 0.114420076111023"/>
    <parent link="rear_right_2_Link"/>
    <child link="rear_right_3_Link"/>
    <axis xyz="0 0 1"/>
    <limit effort="100" lower="-3.0" upper="3.0" velocity="10"/>
  </joint>
  <link name="lh_foot_Link">
    <inertial>
      <origin rpy="0 0 0" xyz="0.017825 -1.1102E-16 0"/>
      <mass value="0.055619"/>
      <inertia ixx="1.655E-05" ixy="2.3509E-21" ixz="-1.4161E-21" iyy="1.2322E-05" iyz="6.8491E-22" izz="1.257E-05"/>
    </inertial>
    <visual>
      <origin rpy="0 0 0" xyz="0 0 0"/>
      <geometry>
        <mesh filename="package://simpledog/meshes/lh_foot_Link.STL"/>
      </geometry>
      <material name="">
        <color rgba="0.29804 0.29804 0.29804 1"/>
      </material>
    </visual>
    <collision>
      <origin rpy="0 0 0" xyz="0 0 0"/>
      <geometry>
        <mesh filename="package://simpledog/meshes/lh_foot_Link.STL"/>
      </geometry>
    </collision>
  </link>
  <joint name="lh_foot_joint" type="fixed">
    <origin rpy="0 0 0" xyz="0.24968 0.00033355 -0.015"/>
    <parent link="rear_right_3_Link"/>
    <child link="lh_foot_Link"/>
    <axis xyz="0 0 0"/>
  </joint>
</robot>
